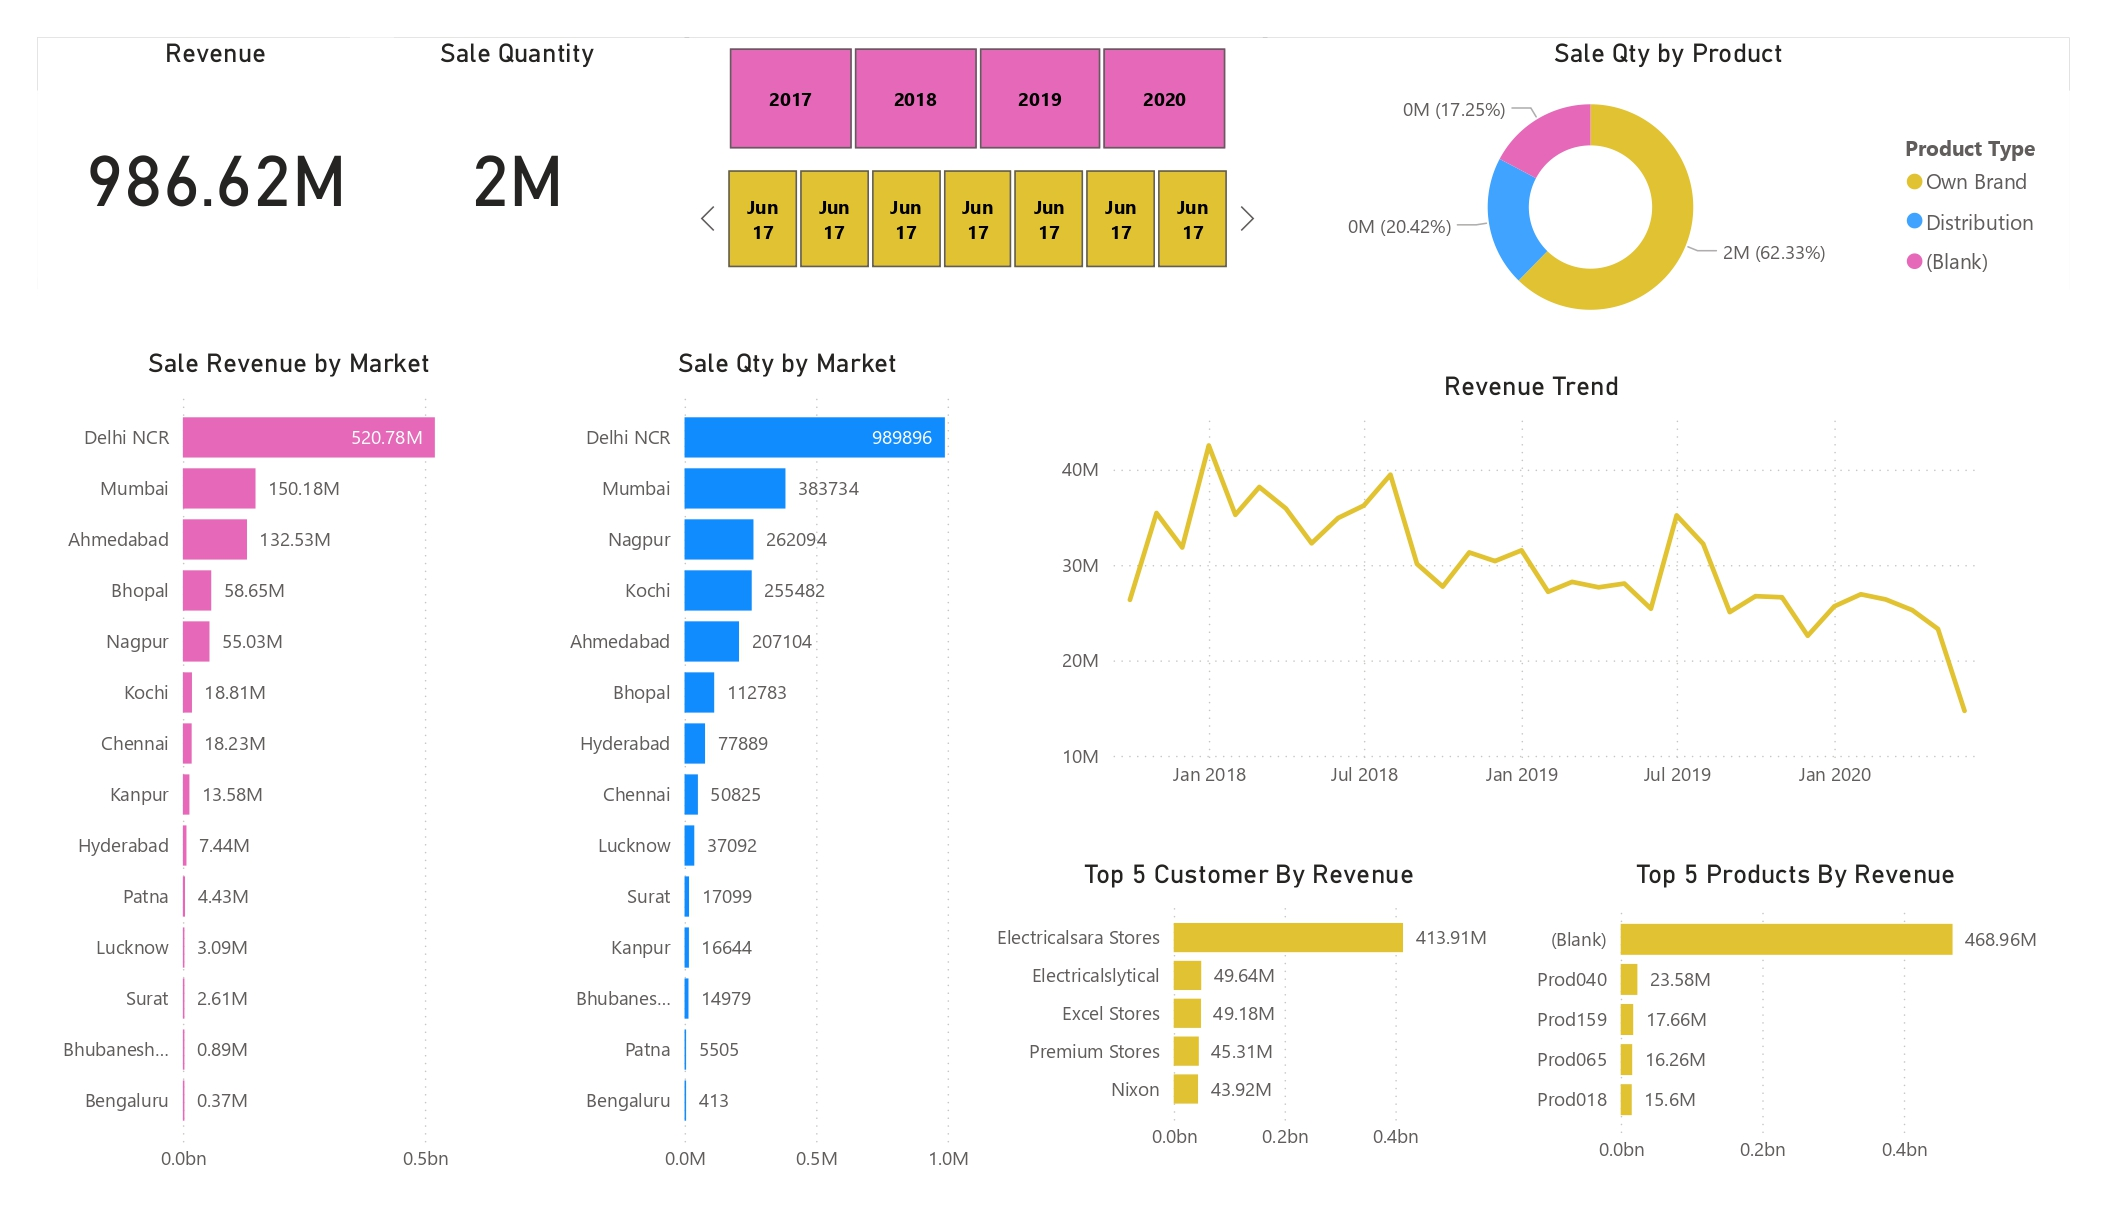

This screenshot's page, from the dashboard's own definition file:
{"tool":"powerbi","page":{"name":"Page 1","canvas":[1300,736],"ordinal":0},"visuals":[{"type":"card","title":"Revenue","fields":{"Values":["base measures.Revenue"]},"box":[0,0,228,154],"z":0},{"type":"card","title":"Sale Quantity ","fields":{"Values":["base measures.sale qty"]},"box":[200,0,214,154],"z":1000},{"type":"barChart","title":"Sale Revenue by Market","fields":{"Y":["base measures.Revenue"],"Category":["sales markets.markets_name"]},"box":[0,198,322,538],"z":2000},{"type":"barChart","title":"Sale Qty by Market","fields":{"Y":["base measures.sale qty"],"Category":["sales markets.markets_name"]},"box":[322,198,316,538],"z":3000},{"type":"slicer","fields":{"Values":["sales date.year"]},"box":[416.7,0,367.5,77.5],"z":4000},{"type":"slicer","fields":{"Values":["sales date.date"]},"box":[415.8,77.5,369.2,76.7],"z":5000},{"type":"barChart","title":"Top 5 Customer By Revenue","fields":{"Y":["base measures.Revenue"],"Category":["sales customers.custmer_name"]},"box":[600,525,350,196.7],"z":6000},{"type":"barChart","title":"Top 5 Products By Revenue","fields":{"Y":["base measures.Revenue"],"Category":["sales products.product_code"]},"box":[950,525,350,205],"z":7000},{"type":"lineChart","title":"Revenue Trend","fields":{"Y":["base measures.Revenue"],"Category":["sales date.cy_date.Variation.Date Hierarchy.Year","sales date.cy_date.Variation.Date Hierarchy.Quarter","sales date.cy_date.Variation.Date Hierarchy.Month","sales date.cy_date.Variation.Date Hierarchy.Day"]},"box":[650,213.3,611.7,276.7],"z":8000},{"type":"donutChart","title":"Sale Qty by Product","fields":{"Y":["base measures.sale qty"],"Category":["sales products.product_type"]},"box":[786.7,0,513.3,198.3],"z":8001}]}

Visuals, with their boxes on the page's 1300x736 design canvas (x1, y1, x2, y2). These are canvas units, not pixel positions in the 2107x1225 screenshot, which may show the page scaled, cropped or inside an application window:
"Revenue" card: detection(0, 0, 228, 154)
"Sale Quantity " card: detection(200, 0, 414, 154)
"Sale Revenue by Market" barChart: detection(0, 198, 322, 736)
"Sale Qty by Market" barChart: detection(322, 198, 638, 736)
slicer - sales date.year: detection(417, 0, 784, 78)
slicer - sales date.date: detection(416, 78, 785, 154)
"Top 5 Customer By Revenue" barChart: detection(600, 525, 950, 722)
"Top 5 Products By Revenue" barChart: detection(950, 525, 1300, 730)
"Revenue Trend" lineChart: detection(650, 213, 1262, 490)
"Sale Qty by Product" donutChart: detection(787, 0, 1300, 198)
